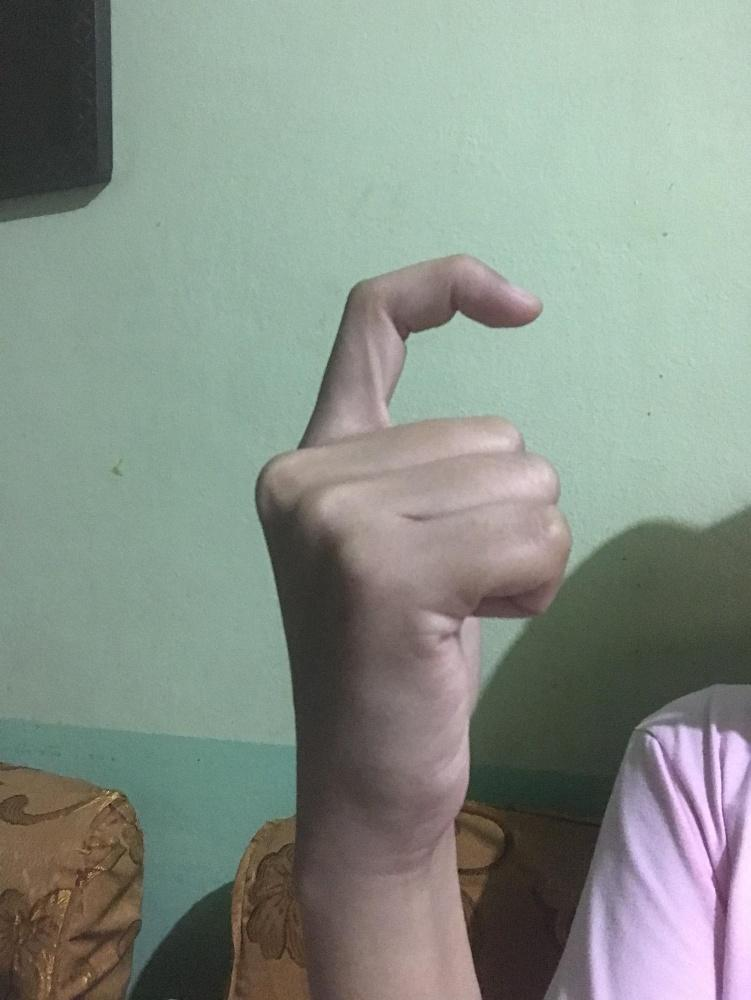x: (247, 243, 583, 865)
